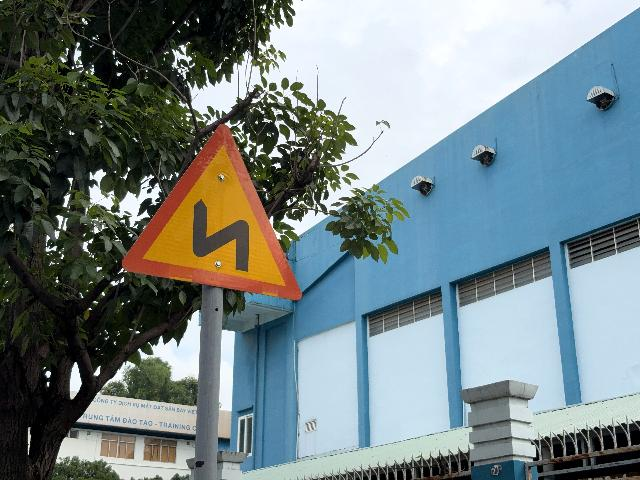nhieu-cho-ngoat-nguy-hiem-lien-tiep: (122, 123, 303, 301)
